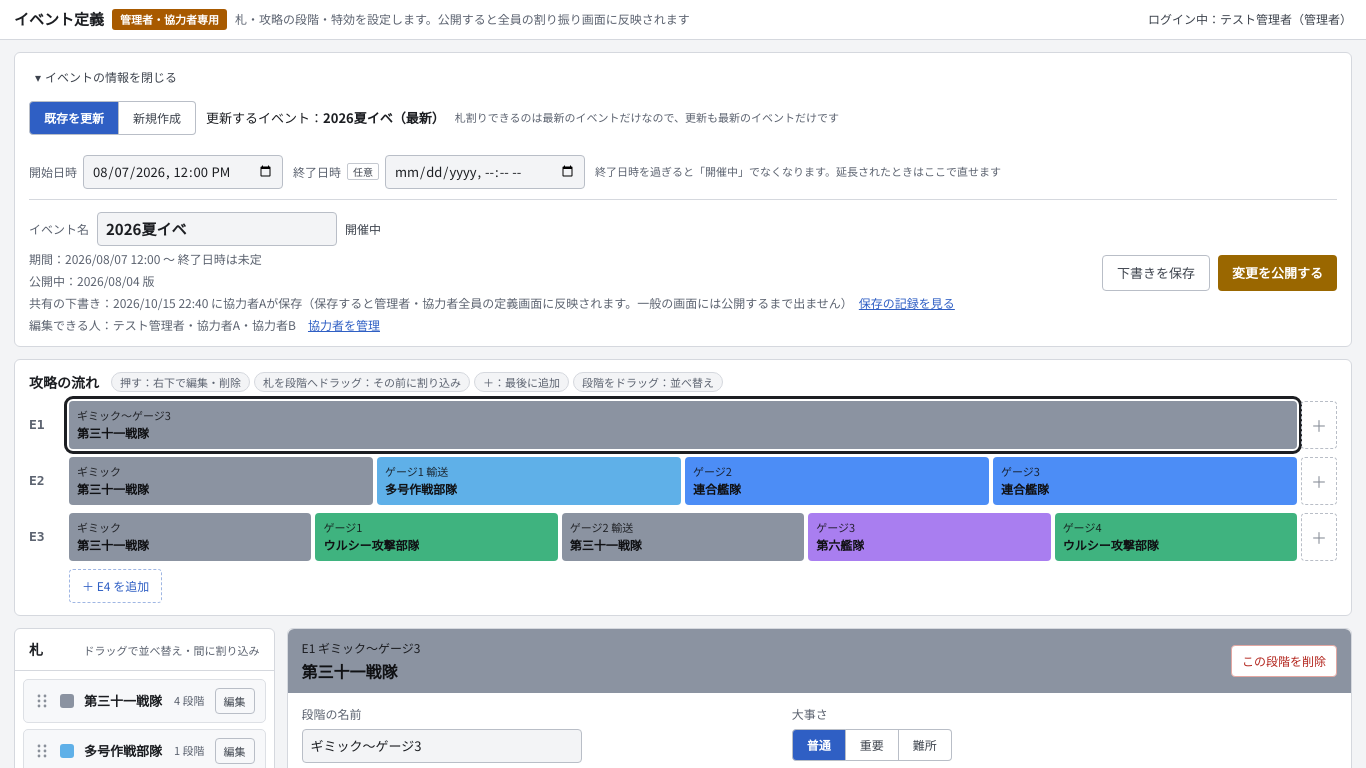
Test: 保存の記録のウィンドウ（定義画面） › 「保存の記録を見る」 › 新規作成に切り替えると「保存の記録を見る」を出さない
Expected: the element "攻略の流れ" is shown, top-left (14, 358), bottom-right (1352, 616)
Expected: the button "保存の記録を見る" is shown, top-left (859, 294), bottom-right (955, 310)
Click the radio button labelled "新規作成": (158, 118) top-left (119, 100), bottom-right (196, 134)
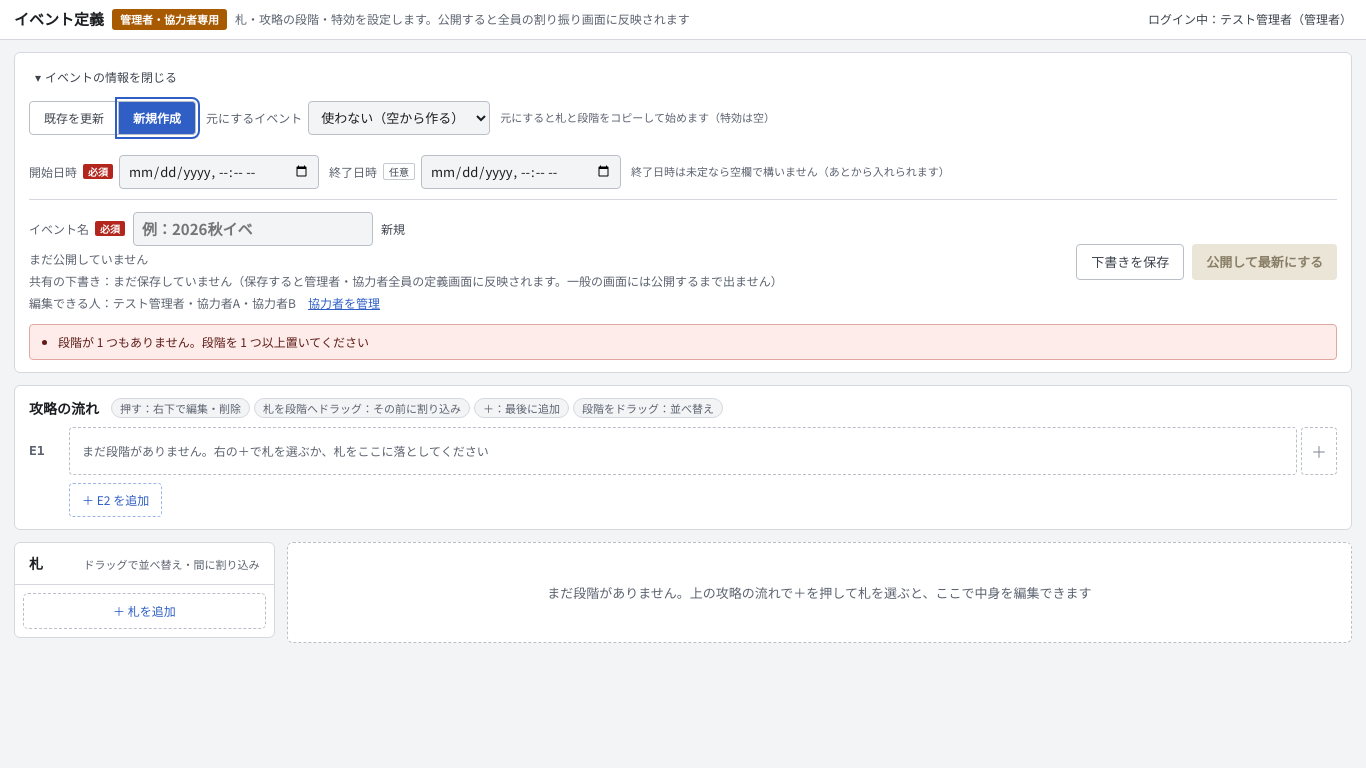
Expected: the button "保存の記録を見る" is gone
